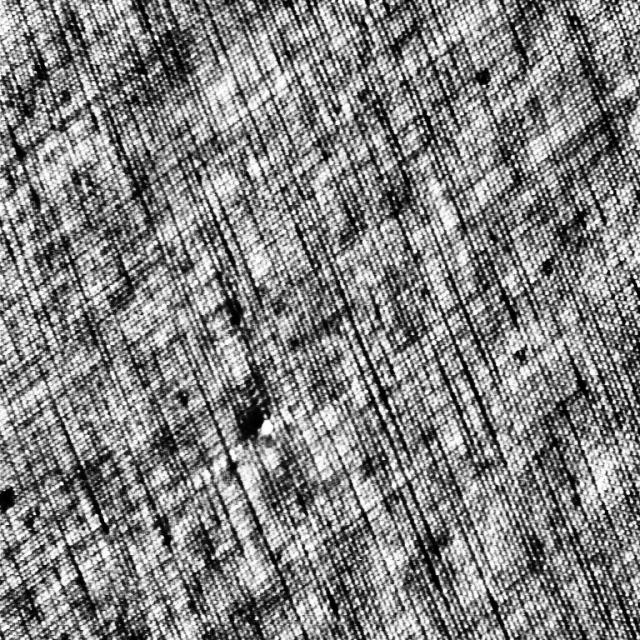Hole: (259, 413, 274, 438)
